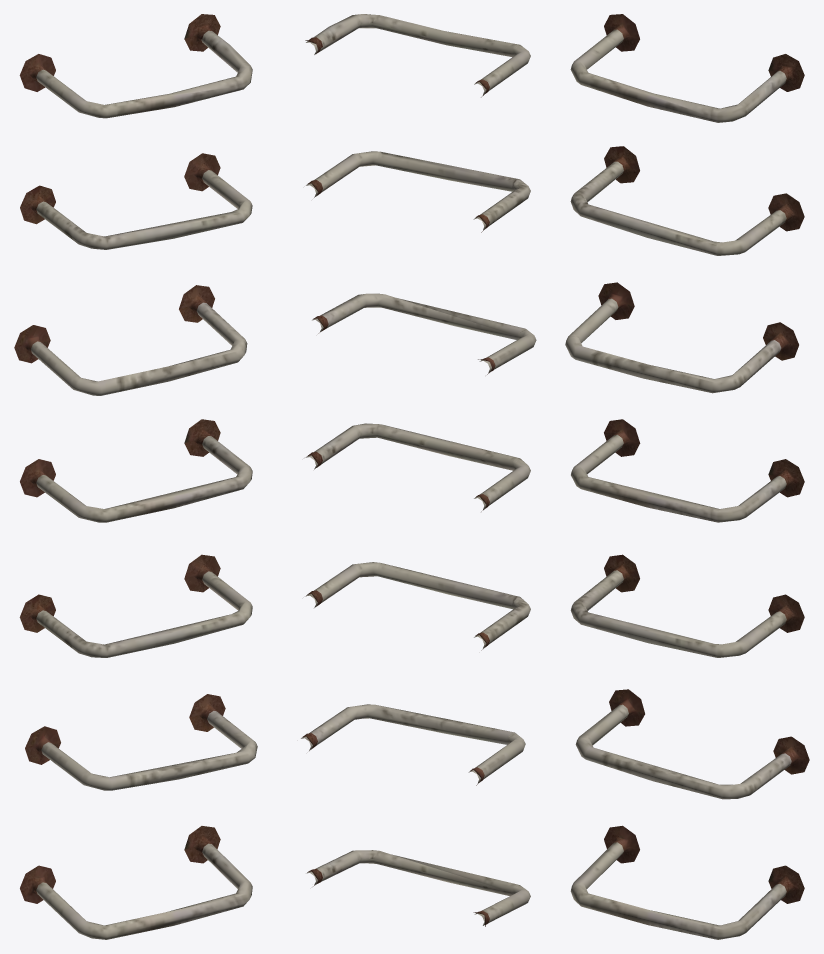
The model's file is hull_ladder.glb.
3 views of the same model, side by side, from view 1: azimuth 30°, elevation 25°; view 2: azimuth 150°, elevation 25°; view 3: azimuth 330°, elevation 25° (orthographic). The views are drawn at different scales.
Parts seen in each view (by area): view 1: hull_ladder_LOD0; view 2: hull_ladder_LOD0; view 3: hull_ladder_LOD0.
Boxes of the visible parts, left/top/right/bottom form: hull_ladder_LOD0: left=14, top=14, right=257, bottom=939; hull_ladder_LOD0: left=301, top=14, right=536, bottom=926; hull_ladder_LOD0: left=565, top=14, right=809, bottom=939.
Size of the model in its own units: 0.4082 by 1.57 by 0.1884.
Materials: 2 (2 with a texture image).
